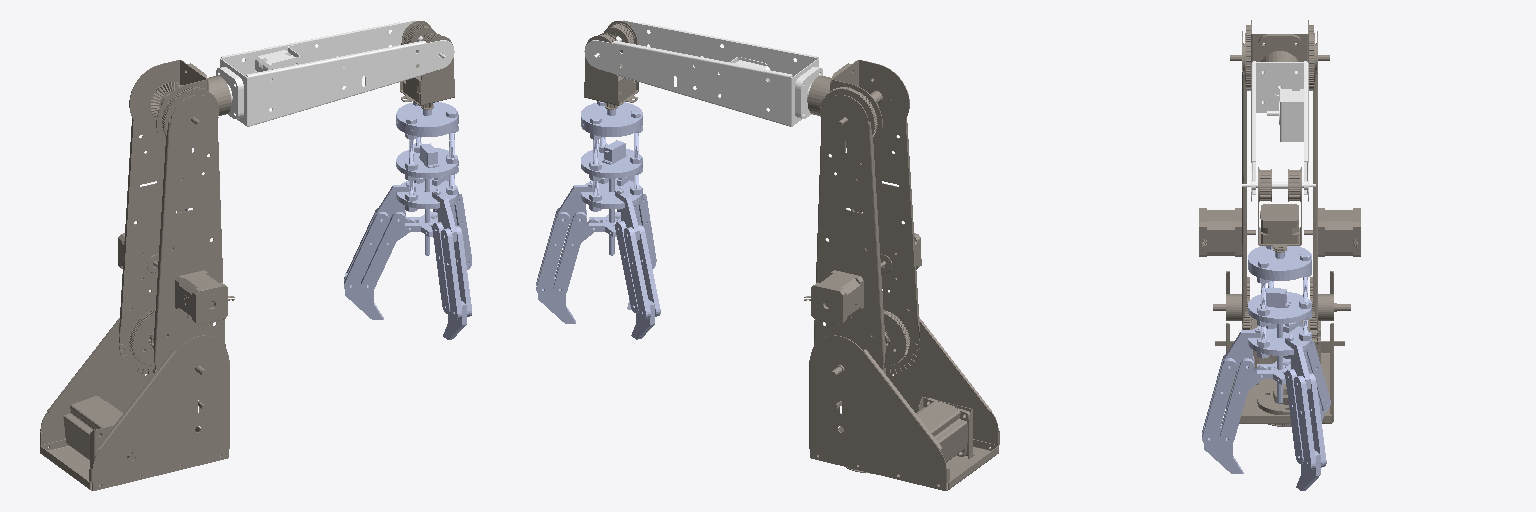
The robot description file, URDF, robot "catarm":
<?xml version="1.0"?>
<robot name="catarm">

<link name="world"/>
  <joint name="fixed" type="fixed">
    <parent link="world"/>
    <child link="base_link"/>
    <origin xyz="0 0 0" rpy="0 0 0"/>
  </joint>
	<link name="base_link">
		<inertial>
			<origin xyz="0.017443 0.020544 0.054214" rpy="0 0 0" />
			<mass value="4.1667" />
			<inertia ixx="0.050131" ixy="0.00093856" ixz="0.00042752" iyy="0.051129" iyz="5.4952E-05" izz="0.085885" />
		</inertial>
		<visual>
			<origin xyz="0 0 0" rpy="0 0 0" />
			<geometry>
				<mesh filename="package://catarm/meshes/base_link.stl" />
			</geometry>
			<material name="">
				<color rgba="0.52941 0.54902 0.54902 1" />
			</material>
		</visual>
		<collision>
			<origin xyz="0 0 0" rpy="0 0 0" />
			<geometry>
				<mesh filename="package://catarm/meshes/base_link.stl" />
			</geometry>
		</collision>
	</link>
	<link name="link_1">
		<inertial>
			<origin xyz="-0.03437 -0.0063603 0.03565" rpy="0 0 0" />
			<mass value="0.98221" />
			<inertia ixx="0.0033593" ixy="-3.1313E-05" ixz="-0.00035203" iyy="0.0038621" iyz="3.4669E-05" izz="0.0039384" />
		</inertial>
		<visual>
			<origin xyz="0 0 0" rpy="0 0 0" />
			<geometry>
				<mesh filename="package://catarm/meshes/link_1.stl" />
			</geometry>
			<material name="">
				<color rgba="0.65098 0.61961 0.58824 1" />
			</material>
		</visual>
		<collision>
			<origin xyz="0 0 0" rpy="0 0 0" />
			<geometry>
				<mesh filename="package://catarm/meshes/link_1.stl" />
			</geometry>
		</collision>
	</link>
	<joint name="joint_1" type="revolute">
		<origin xyz="0 0 0.12265" rpy="3.4695E-15 0 0" />
		<parent link="base_link" />
		<child link="link_1" />
		<axis xyz="0 0 1" />
		<limit lower="-3" upper="3" effort="0.8" velocity="1" />
	</joint>
	<link name="link_2">
		<inertial>
			<origin xyz="0.111357272853953 -0.00161208028093563 -8.05809154439258E-05" rpy="0 0 0" />
			<mass value="0.974805147886848" />
			<inertia ixx="0.00307136585243248" ixy="8.77977695846416E-05" ixz="1.41535219449744E-05" iyy="0.0094161193535277" iyz="-2.06207252495148E-07" izz="0.00703323476076372" />
		</inertial>
		<visual>
			<origin xyz="0 0 0" rpy="0 0 0" />
			<geometry>
				<mesh filename="package://catarm/meshes/link_2.stl" />
			</geometry>
			<material name="">
				<color rgba="0.650980392156863 0.619607843137255 0.588235294117647 1" />
			</material>
		</visual>
		<collision>
			<origin xyz="0 0 0" rpy="0 0 0" />
			<geometry>
				<mesh filename="package://catarm/meshes/link_2.stl" />
			</geometry>
		</collision>
	</link>
	<joint name="joint_2" type="revolute">
		<origin xyz="0.01 -0.008 0.12" rpy="1.5708 -1.5708 0" />
		<parent link="link_1" />
		<child link="link_2" />
		<axis xyz="0 0 1" />
		<limit lower="-1.5" upper="1.5" effort="0.8" velocity="1" />
	</joint>
	<link name="link_3">
		<inertial>
			<origin xyz="0.0158650381502784 8.20056705874705E-08 -1.3912482277334E-15" rpy="0 0 0" />
			<mass value="0.223148043155163" />
			<inertia ixx="0.000232923771644071" ixy="-1.22869577964899E-10" ixz="-8.88354787940264E-14" iyy="0.000307334502251285" iyz="1.7263286770416E-14" izz="0.000247386513662684" />
		</inertial>
		<visual>
			<origin xyz="0 0 0" rpy="0 0 0" />
			<geometry>
				<mesh filename="package://catarm/meshes/link_3.stl" />
			</geometry>
			<material name="">
				<color rgba="0.650980392156863 0.619607843137255 0.588235294117647 1" />
			</material>
		</visual>
		<collision>
			<origin xyz="0 0 0" rpy="0 0 0" />
			<geometry>
				<mesh filename="package://catarm/meshes/link_3.stl" />
			</geometry>
		</collision>
	</link>
	<joint name="joint_3" type="revolute">
		<origin xyz="0.29997 -0.0042684 0" rpy="-2.063E-17 -1.4291E-15 -1.5708" />
		<parent link="link_2" />
		<child link="link_3" />
		<axis xyz="0 0 1" />
		<limit lower="0" upper="3.14" effort="0.6" velocity="1" />
	</joint>
	<link name="link_4">
		<inertial>
			<origin xyz="0.00277141909993411 -1.23586457565494E-05 -0.135981561464636" rpy="0 0 0" />
			<mass value="0.368023175735054" />
			<inertia ixx="0.00221163331930652" ixy="-1.26051569717221E-08" ixz="-1.86537774701632E-05" iyy="0.00236403908416395" iyz="-3.71671794609191E-07" izz="0.000326749487420291" />
		</inertial>
		<visual>
			<origin xyz="0 0 0" rpy="0 0 0" />
			<geometry>
				<mesh filename="package://catarm/meshes/link_4.stl" />
			</geometry>
			<material name="">
				<color rgba="1 1 1 1" />
			</material>
		</visual>
		<collision>
			<origin xyz="0 0 0" rpy="0 0 0" />
			<geometry>
				<mesh filename="package://catarm/meshes/link_4.stl" />
			</geometry>
		</collision>
	</link>
	<joint name="joint_4" type="revolute">
		<origin xyz="0.029737 0 0" rpy="-1.5708 1.5708 1.5708" />
		<parent link="link_3" />
		<child link="link_4" />
		<axis xyz="0 0 1" />
		<limit lower="-3" upper="3" effort="0.6" velocity="1" />
	</joint>
	<link name="link_5">
		<inertial>
			<origin xyz="0.0343089708193019 -2.16589071344621E-05 1.77184778680228E-05" rpy="0 0 0" />
			<mass value="0.129795818491803" />
			<inertia ixx="5.76291351352184E-05" ixy="-7.90001478023421E-08" ixz="-2.42800387599526E-08" iyy="0.000111658715159219" iyz="-3.02054651782493E-10" izz="9.24563756346158E-05" />
		</inertial>
		<visual>
			<origin xyz="0 0 0" rpy="0 0 0" />
			<geometry>
				<mesh filename="package://catarm/meshes/link_5.stl" />
			</geometry>
			<material name="">
				<color rgba="0.650980392156863 0.619607843137255 0.588235294117647 1" />
			</material>
		</visual>
		<collision>
			<origin xyz="0 0 0" rpy="0 0 0" />
			<geometry>
				<mesh filename="package://catarm/meshes/link_5.stl" />
			</geometry>
		</collision>
	</link>
	<joint name="joint_5" type="revolute">
		<origin xyz="0 0 -0.29674" rpy="1.5708 0 1.5708" />
		<parent link="link_4" />
		<child link="link_5" />
		<axis xyz="0 0 1" />
		<limit lower="-3.14" upper="0" effort="0.9" velocity="1" />
	</joint>
	<link name="link_6">
		<inertial>
			<origin xyz="0.00022026 -0.00013666 0.066945" rpy="0 0 0" />
			<mass value="0.19545" />
			<inertia ixx="0.00054019" ixy="-1.0981E-06" ixz="-2.214E-07" iyy="0.00054165" iyz="1.4724E-06" izz="0.00014479" />
		</inertial>
		<visual>
			<origin xyz="0 0 0" rpy="0 0 0" />
			<geometry>
				<mesh filename="package://catarm/meshes/link_6.stl" />
			</geometry>
			<material name="">
				<color rgba="0.79608 0.82353 0.93725 1" />
			</material>
		</visual>
		<collision>
			<origin xyz="0 0 0" rpy="0 0 0" />
			<geometry>
				<mesh filename="package://catarm/meshes/link_6.stl" />
			</geometry>
		</collision>
	</link>
	<joint name="joint_6" type="revolute">
		<origin xyz="0.085737 0 0" rpy="0 1.5708 0" />
		<parent link="link_5" />
		<child link="link_6" />
		<axis xyz="0 0 -1" />
		<limit lower="-3" upper="3" effort="0.4" velocity="1" />
	</joint>
	<link name="gripper_1">
		<inertial>
			<origin xyz="0.053243 -0.0027537 -4.3021E-16" rpy="0 0 0" />
			<mass value="0.05885" />
			<inertia ixx="1.1454E-05" ixy="1.2413E-05" ixz="-3.1325E-19" iyy="7.0749E-05" iyz="-1.7258E-19" izz="7.7911E-05" />
		</inertial>
		<visual>
			<origin xyz="0 0 0" rpy="0 0 0" />
			<geometry>
				<mesh filename="package://catarm/meshes/gripper_1.stl" />
			</geometry>
			<material name="">
				<color rgba="0.79216 0.81961 0.93333 1" />
			</material>
		</visual>
		<collision>
			<origin xyz="0 0 0" rpy="0 0 0" />
			<geometry>
				<mesh filename="package://catarm/meshes/gripper_1.stl" />
			</geometry>
		</collision>
	</link>
	<joint name="gripper_joint_1" type="revolute">
		<origin xyz="0.054465 0 0.127" rpy="1.5708 -1.5708 0" />
		<parent link="link_6" />
		<child link="gripper_1" />
		<axis xyz="0 0 -1" />
		<limit lower="-0.7" upper="0.7" effort="0.3" velocity="1" />
	</joint>
	<link name="gripper_2">
		<inertial>
			<origin xyz="0.0507 -0.010307 -5.5511E-17" rpy="0 0 0" />
			<mass value="0.05885" />
			<inertia ixx="1.6302E-05" ixy="2.0122E-05" ixz="4.1406E-19" iyy="6.5008E-05" iyz="-1.0205E-21" izz="7.7018E-05" />
		</inertial>
		<visual>
			<origin xyz="0 0 0" rpy="0 0 0" />
			<geometry>
				<mesh filename="package://catarm/meshes/gripper_2.stl" />
			</geometry>
			<material name="">
				<color rgba="0.79216 0.81961 0.93333 1" />
			</material>
		</visual>
		<collision>
			<origin xyz="0 0 0" rpy="0 0 0" />
			<geometry>
				<mesh filename="package://catarm/meshes/gripper_2.stl" />
			</geometry>
		</collision>
	</link>
	<joint name="gripper_joint_2" type="revolute">
		<origin xyz="-0.025549 0.044252 0.127" rpy="0.5236 -1.5708 3.14159265359" />
		<parent link="link_6" />
		<child link="gripper_2" />
		<axis xyz="0 0 -1" />
		<limit lower="-0.7" upper="0.7" effort="0.3" velocity="1" />
	</joint>
	<link name="gripper_3">
		<inertial>
			<origin xyz="0.053209 -0.0028886 2.7756E-16" rpy="0 0 0" />
			<mass value="0.05885" />
			<inertia ixx="1.152E-05" ixy="1.2561E-05" ixz="1.3169E-19" iyy="7.067E-05" iyz="5.2669E-20" izz="7.7897E-05" />
		</inertial>
		<visual>
			<origin xyz="0 0 0" rpy="0 0 0" />
			<geometry>
				<mesh filename="package://catarm/meshes/gripper_3.stl" />
			</geometry>
			<material name="">
				<color rgba="0.79216 0.81961 0.93333 1" />
			</material>
		</visual>
		<collision>
			<origin xyz="0 0 0" rpy="0 0 0" />
			<geometry>
				<mesh filename="package://catarm/meshes/gripper_3.stl" />
			</geometry>
		</collision>
	</link>
	<joint name="gripper_joint_3" type="revolute">
		<origin xyz="-0.027233 -0.047168 0.127" rpy="2.618 -1.5708 3.14159265359" />
		<parent link="link_6" />
		<child link="gripper_3" />
		<axis xyz="0 0 -1" />
		<limit lower="-0.7" upper="0.7" effort="0.3" velocity="1" />
	</joint>
<gazebo reference="base_link">
  <material>Gazebo/Black</material>
</gazebo>
<gazebo reference="link_1">
  <material>Gazebo/Black</material>
</gazebo>
 <gazebo reference="link_2">
  <material>Gazebo/Black</material>
</gazebo>
<gazebo reference="link_3">
  <material>Gazebo/Black</material>
</gazebo>
<gazebo reference="link_4">
  <material>Gazebo/Black</material>
</gazebo>
<gazebo reference="link_5">
  <material>Gazebo/Black</material>
</gazebo>
<gazebo reference="link_6">
  <material>Gazebo/Orange</material>
</gazebo>
<gazebo reference="gripper_1">
<material>Gazebo/Orange</material>
</gazebo>
<gazebo reference="gripper_2">
<material>Gazebo/Orange</material>
</gazebo>
<gazebo reference="gripper_3">
<material>Gazebo/Orange</material>
</gazebo>

<transmission name="trans1">
    <type>transmission_interface/SimpleTransmission</type>
     <joint name="joint_1">
      <hardwareInterface>PositionJointInterface</hardwareInterface>
     </joint>
     <actuator name="motor_1">
      <mechanicalReduction>1</mechanicalReduction>
      <hardwareInterface>PositionJointInterface</hardwareInterface>
     </actuator>
 </transmission>
<transmission name="trans2">
    <type>transmission_interface/SimpleTransmission</type>
     <joint name="joint_2">
      <hardwareInterface>PositionJointInterface</hardwareInterface>
     </joint>
     <actuator name="motor_2">
      <mechanicalReduction>1</mechanicalReduction>
      <hardwareInterface>PositionJointInterface</hardwareInterface>
     </actuator>
</transmission>
<transmission name="trans3">
    <type>transmission_interface/SimpleTransmission</type>
     <joint name="joint_3">
      <hardwareInterface>PositionJointInterface</hardwareInterface>
     </joint>
     <actuator name="motor_3">
      <mechanicalReduction>1</mechanicalReduction>
      <hardwareInterface>PositionJointInterface</hardwareInterface>
     </actuator>
</transmission>
<transmission name="trans4">
    <type>transmission_interface/SimpleTransmission</type>
     <joint name="joint_4">
      <hardwareInterface>PositionJointInterface</hardwareInterface>
     </joint>
     <actuator name="motor_4">
      <mechanicalReduction>1</mechanicalReduction>
      <hardwareInterface>PositionJointInterface</hardwareInterface>
     </actuator>
</transmission> 
<transmission name="trans5">
    <type>transmission_interface/SimpleTransmission</type>
     <joint name="joint_5">
      <hardwareInterface>PositionJointInterface</hardwareInterface>
     </joint>
     <actuator name="motor_5">
      <mechanicalReduction>1</mechanicalReduction>
      <hardwareInterface>PositionJointInterface</hardwareInterface>
     </actuator>
</transmission>
<transmission name="trans6">
    <type>transmission_interface/SimpleTransmission</type>
     <joint name="joint_6">
      <hardwareInterface>PositionJointInterface</hardwareInterface>
     </joint>
     <actuator name="motor_6">
      <mechanicalReduction>1</mechanicalReduction>
      <hardwareInterface>PositionJointInterface</hardwareInterface>
     </actuator>
</transmission>
 
 <transmission name="trans7">
    <type>transmission_interface/SimpleTransmission</type>
     <joint name="gripper_joint_1">
      <hardwareInterface>PositionJointInterface</hardwareInterface>
     </joint>
     <actuator name="motor_7">
      <mechanicalReduction>1</mechanicalReduction>
      <hardwareInterface>PositionJointInterface</hardwareInterface>
     </actuator>
</transmission>	
<transmission name="trans8">
    <type>transmission_interface/SimpleTransmission</type>
     <joint name="gripper_joint_2">
      <hardwareInterface>PositionJointInterface</hardwareInterface>
     </joint>
     <actuator name="motor_7">
      <mechanicalReduction>1</mechanicalReduction>
      <hardwareInterface>PositionJointInterface</hardwareInterface>
     </actuator>
</transmission>	
<transmission name="trans9">
    <type>transmission_interface/SimpleTransmission</type>
     <joint name="gripper_joint_3">
      <hardwareInterface>PositionJointInterface</hardwareInterface>
     </joint>
     <actuator name="motor_7">
      <mechanicalReduction>1</mechanicalReduction>
      <hardwareInterface>PositionJointInterface</hardwareInterface>
     </actuator>
</transmission>	
<joint name="rgbd_camera_joint" type="fixed">
    <origin rpy="0 1.308996939 0" xyz="0.1 0 1.5"/>
    <parent link="base_link"/>
    <child link="rgbd_camera_link"/>
  </joint>
  <link name="rgbd_camera_link">
    <inertial>
      <origin rpy="0 0 0" xyz="-0.00936000000 -0.00003000000 -0.00273000000"/>
      <mass value="0.21970000000"/>
      <inertia ixx="0.00000429247" ixy="0.00000000000" ixz="0.00000002565" iyy="0.00000008027" iyz="0.00000000000" izz="0.00000427339"/>
    </inertial>
    <visual>
      <origin rpy="0 0 0" xyz="0 0 0"/>
      <geometry>
        <mesh filename="package://catarm/meshes/sensors/xtion_pro_live/xtion_pro_live.dae"/>
      </geometry>
    </visual>
  </link>
<joint name="rgbd_camera_optical_joint" type="fixed">
    <origin rpy="-1.57079632679 0 -1.57079632679" xyz="0 0 0"/>
    <parent link="rgbd_camera_link"/>
    <child link="rgbd_camera_optical_frame"/>
  </joint>
  <link name="rgbd_camera_optical_frame">
    <inertial>
      <origin rpy="0 0 0" xyz="0 0 0"/>
      <mass value="0.001"/>
      <inertia ixx="0.00001" ixy="0" ixz="0" iyy="0.00001" iyz="0" izz="0.00001"/>
    </inertial>
  </link>
  <!-- Depth sensor frames -->
  <joint name="rgbd_camera_depth_joint" type="fixed">
    <origin rpy="0 0 0" xyz="0.0 0.049 0.0"/>
    <parent link="rgbd_camera_link"/>
    <child link="rgbd_camera_depth_frame"/>
  </joint>
  <link name="rgbd_camera_depth_frame">
    <inertial>
      <origin rpy="0 0 0" xyz="0 0 0"/>
      <mass value="0.001"/>
      <inertia ixx="0.00001" ixy="0" ixz="0" iyy="0.00001" iyz="0" izz="0.00001"/>
    </inertial>
  </link>
  <joint name="rgbd_camera_depth_optical_joint" type="fixed">
    <origin rpy="-1.57079632679 0.0 -1.57079632679" xyz="0 0 0"/>
    <parent link="rgbd_camera_depth_frame"/>
    <child link="rgbd_camera_depth_optical_frame"/>
  </joint>
  <link name="rgbd_camera_depth_optical_frame">
    <inertial>
      <origin rpy="0 0 0" xyz="0 0 0"/>
      <mass value="0.001"/>
      <inertia ixx="0.00001" ixy="0" ixz="0" iyy="0.00001" iyz="0" izz="0.00001"/>
    </inertial>
  </link>
<joint name="rgbd_camera_rgb_joint" type="fixed">
    <origin rpy="0 0 0" xyz="0.0 0.022 0.0"/>
    <parent link="rgbd_camera_link"/>
    <child link="rgbd_camera_rgb_frame"/>
  </joint>
  <link name="rgbd_camera_rgb_frame">
    <inertial>
      <origin rpy="0 0 0" xyz="0 0 0"/>
      <mass value="0.001"/>
      <inertia ixx="0.00001" ixy="0" ixz="0" iyy="0.00001" iyz="0" izz="0.00001"/>
    </inertial>
  </link>
  <joint name="rgbd_camera_rgb_optical_joint" type="fixed">
    <origin rpy="-1.57079632679 0.0 -1.57079632679" xyz="0 0 0"/>
    <parent link="rgbd_camera_rgb_frame"/>
    <child link="rgbd_camera_rgb_optical_frame"/>
  </joint>
  <link name="rgbd_camera_rgb_optical_frame">
    <inertial>
      <origin rpy="0 0 0" xyz="0 0 0"/>
      <mass value="0.001"/>
      <inertia ixx="0.00001" ixy="0" ixz="0" iyy="0.00001" iyz="0" izz="0.00001"/>
    </inertial>
  </link>

  <gazebo reference="rgbd_camera_link"> 
    <sensor type="camera" name="camera">
      <update_rate>30.0</update_rate>
      <camera name="head">
        <horizontal_fov>1.3962634</horizontal_fov>
        <image>
          <width>800</width>
          <height>800</height>
          <format>R8G8B8</format>
        </image>
        <clip>
          <near>0.02</near>
          <far>300</far>
        </clip>
        <noise>
          <type>gaussian</type>
          <mean>0.0</mean>
          <stddev>0.007</stddev>
        </noise>
      </camera>
      <plugin name="camera_controller" filename="libgazebo_ros_camera.so">
        <alwaysOn>true</alwaysOn>
        <updateRate>0.0</updateRate>
        <cameraName>camera</cameraName>
        <imageTopicName>camera/image_raw</imageTopicName>
        <cameraInfoTopicName>camera/camera_info</cameraInfoTopicName>
        <frameName>rgbd_camera_optical_frame</frameName>
        <hackBaseline>0.07</hackBaseline>
        <distortionK1>0.0</distortionK1>
        <distortionK2>0.0</distortionK2>
        <distortionK3>0.0</distortionK3>
        <distortionT1>0.0</distortionT1>
        <distortionT2>0.0</distortionT2>
      </plugin>
    </sensor>

    <sensor name="depth_camera" type="depth">
      <always_on>true</always_on>
      <update_rate>6.0</update_rate>
      <camera>
        <horizontal_fov>1.01229096616</horizontal_fov>
        <image>
          <format>R8G8B8</format>
          <width>320</width>
          <height>240</height>
        </image>
        <clip>
          <near>0.05</near>
          <far>4.0</far>
        </clip>
      </camera>
      <plugin filename="libgazebo_ros_openni_kinect.so" name="rgbd_camera_frame_controller">
        <alwaysOn>true</alwaysOn>
        <updateRate>6.0</updateRate>
        <cameraName>depth_camera</cameraName>
        <imageTopicName>depth_camera/image_raw</imageTopicName>
        <cameraInfoTopicName>depth_camera/camera_info</cameraInfoTopicName>
        <depthImageTopicName>depth/image_raw</depthImageTopicName>
        <depthImageCameraInfoTopicName>depth/camera_info</depthImageCameraInfoTopicName>
        <pointCloudTopicName>depth/points</pointCloudTopicName>
        <frameName>rgbd_camera_optical_frame</frameName>
        <pointCloudCutoff>0.05</pointCloudCutoff>
        <pointCloudCutoffMax>5</pointCloudCutoffMax>
        <rangeMax>4.0</rangeMax>
          <distortionK1>0.00000001</distortionK1>
          <distortionK2>0.00000001</distortionK2>
          <distortionK3>0.00000001</distortionK3>
          <distortionT1>0.00000001</distortionT1>
          <distortionT2>0.00000001</distortionT2>
      </plugin>
    </sensor>

   </gazebo>


  <!-- ros_control plugin -->
<gazebo>
   <plugin name="gazebo_ros_control" filename="libgazebo_ros_control.so">
    <robotNamespace>/catarm</robotNamespace>
 </plugin>
</gazebo>
</robot>

--- What the picture shows (computed from the rendered views, not written in the file) ---
3 views of the same robot in one strip: view 1: azimuth 30°, elevation 25°; view 2: azimuth 150°, elevation 25°; view 3: azimuth 270°, elevation 25° (orthographic).
Robot: catarm — 17 links, 16 joints (9 revolute, 7 fixed); root link world; default pose: all joints at 0.
Links seen in each view (by area): view 1: link_2, link_1, link_4, link_6, link_3, gripper_2, gripper_1, link_5, gripper_3; view 2: link_2, link_1, link_4, link_6, link_3, gripper_3, gripper_2, link_5, gripper_1; view 3: link_6, link_2, link_4, link_1, gripper_1, gripper_3, link_5, link_3, gripper_2.
Boxes of the visible links, <box> form: link_2: <box>118,82,234,373</box>; link_1: <box>40,307,229,490</box>; link_4: <box>216,20,454,126</box>; link_6: <box>376,101,458,255</box>; link_3: <box>129,60,230,147</box>; gripper_2: <box>344,208,405,319</box>; gripper_1: <box>432,222,471,339</box>; link_5: <box>400,21,454,109</box>; gripper_3: <box>433,194,471,269</box>; link_2: <box>804,90,921,373</box>; link_1: <box>809,307,999,490</box>; link_4: <box>584,20,822,126</box>; link_6: <box>557,101,642,255</box>; link_3: <box>808,60,909,147</box>; gripper_3: <box>536,208,586,323</box>; gripper_2: <box>615,221,660,339</box>; link_5: <box>584,21,638,109</box>; gripper_1: <box>617,194,656,309</box>; link_6: <box>1224,246,1311,403</box>; link_2: <box>1199,31,1360,348</box>; link_4: <box>1242,61,1315,201</box>; link_1: <box>1213,271,1350,426</box>; gripper_1: <box>1202,354,1254,473</box>; gripper_3: <box>1285,369,1326,490</box>; link_5: <box>1258,167,1301,252</box>; link_3: <box>1245,20,1314,90</box>; gripper_2: <box>1284,341,1330,420</box>.
Bounding box of the posed robot: 0.5469 × 0.176 × 0.472 m (x, y, z).
9 mesh visuals loaded from 11 distinct referenced files (9 binary STL); not drawn: 2 (reference not matched to a file when rendering).